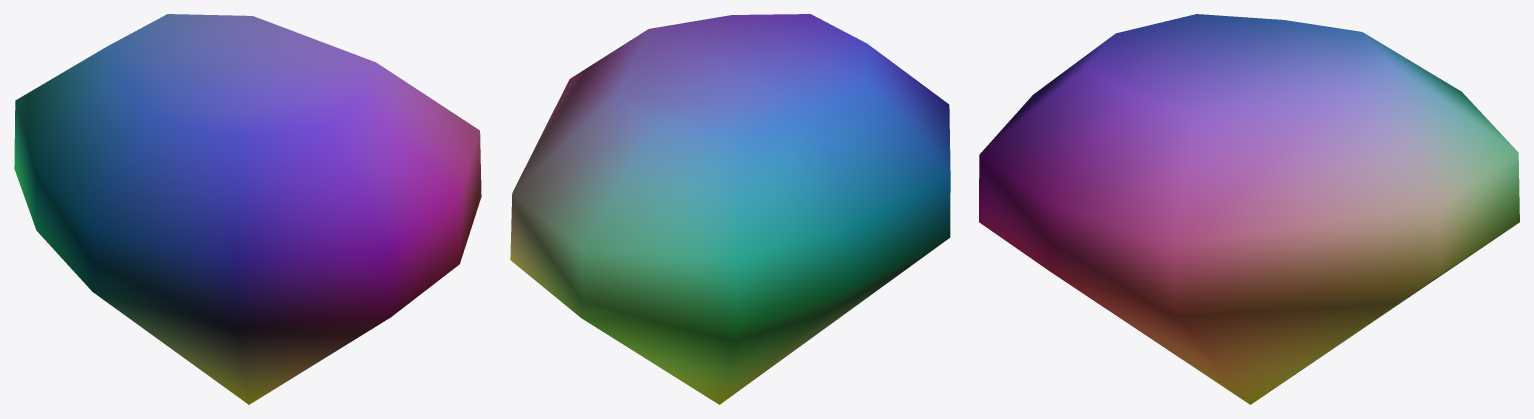
Rendered from SM_Pickup_Gem_Ruby_1.fbx.
The picture shows the model from 3 angles, left to right: view 1: azimuth 30°, elevation 25°; view 2: azimuth 150°, elevation 25°; view 3: azimuth 270°, elevation 25°; orthographic projection.
Visible parts, largest first — view 1: SM_Pickup_Gem_Ruby_1; view 2: SM_Pickup_Gem_Ruby_1; view 3: SM_Pickup_Gem_Ruby_1.
Boxes of the visible parts, box(x1,y1,x2,y2) form: SM_Pickup_Gem_Ruby_1: box(14, 14, 481, 404); SM_Pickup_Gem_Ruby_1: box(510, 14, 950, 404); SM_Pickup_Gem_Ruby_1: box(979, 14, 1519, 404).
Size of the model in its own units: 0.0848 by 0.0708 by 0.1038.
